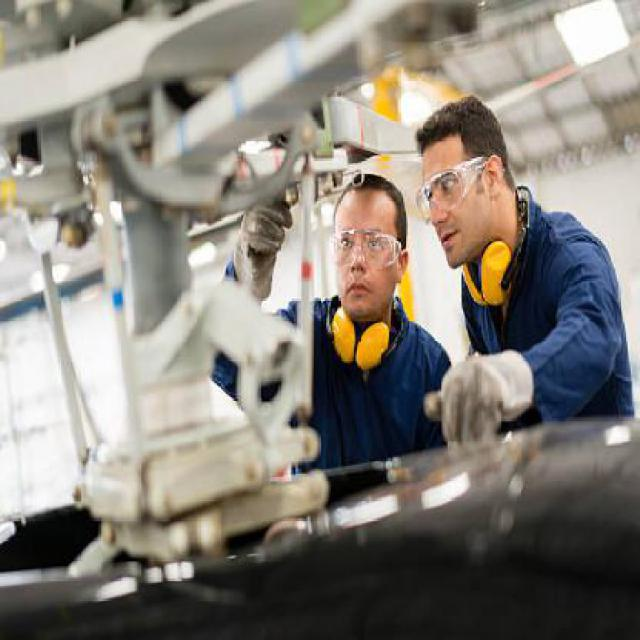glass: (415, 153, 486, 224), (320, 223, 404, 270)
head: (412, 92, 520, 277), (327, 164, 416, 319)
person: (398, 93, 633, 452), (218, 161, 441, 473)
